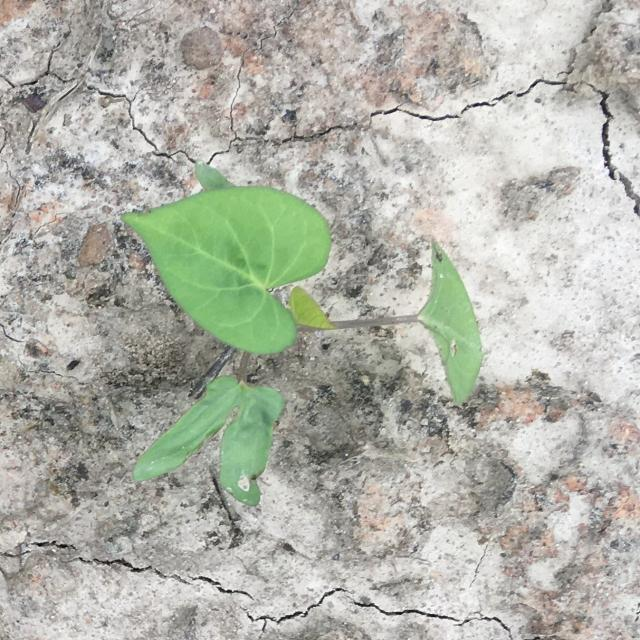MorningGlory: (120, 160, 484, 508)
